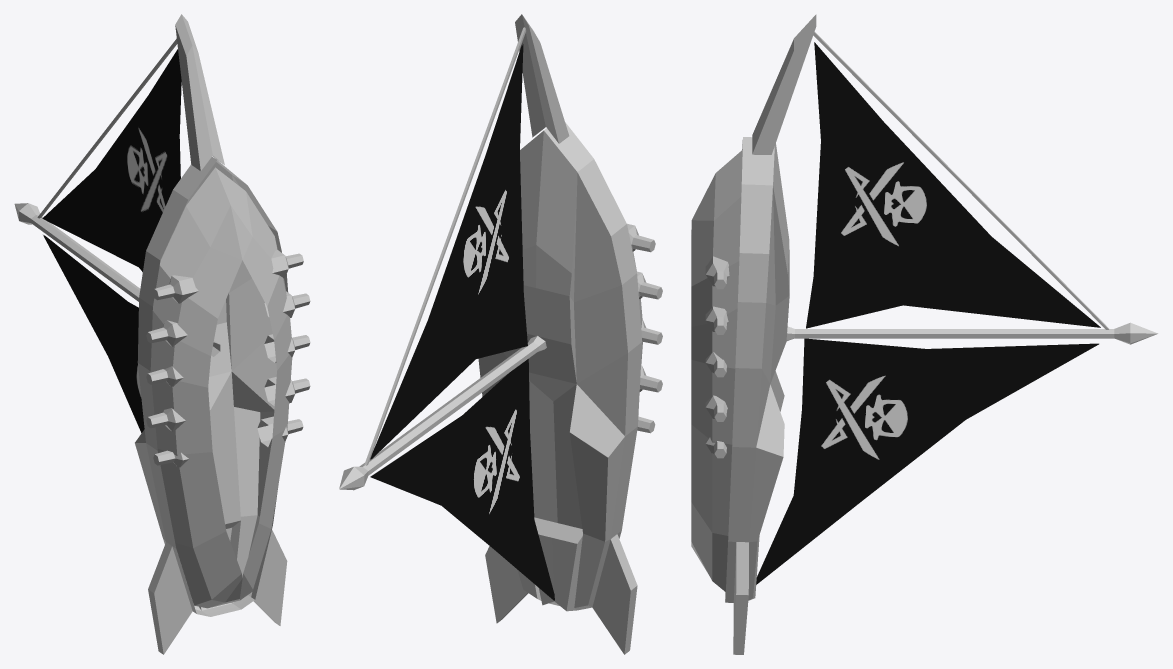
File: pirate_speed_my_4.fbx
3 renders of one model, left to right at view 1: azimuth 30°, elevation 25°; view 2: azimuth 150°, elevation 25°; view 3: azimuth 270°, elevation 25°, orthographic. The views are drawn at different scales.
Visible parts, largest first — view 1: Cube.235; view 2: Cube.235; view 3: Cube.235.
Boxes of the visible parts, <box> form: Cube.235: <box>14,14,310,654</box>; Cube.235: <box>339,14,662,654</box>; Cube.235: <box>691,14,1157,654</box>.
Size of the model in its own units: 194 by 700 by 485.
